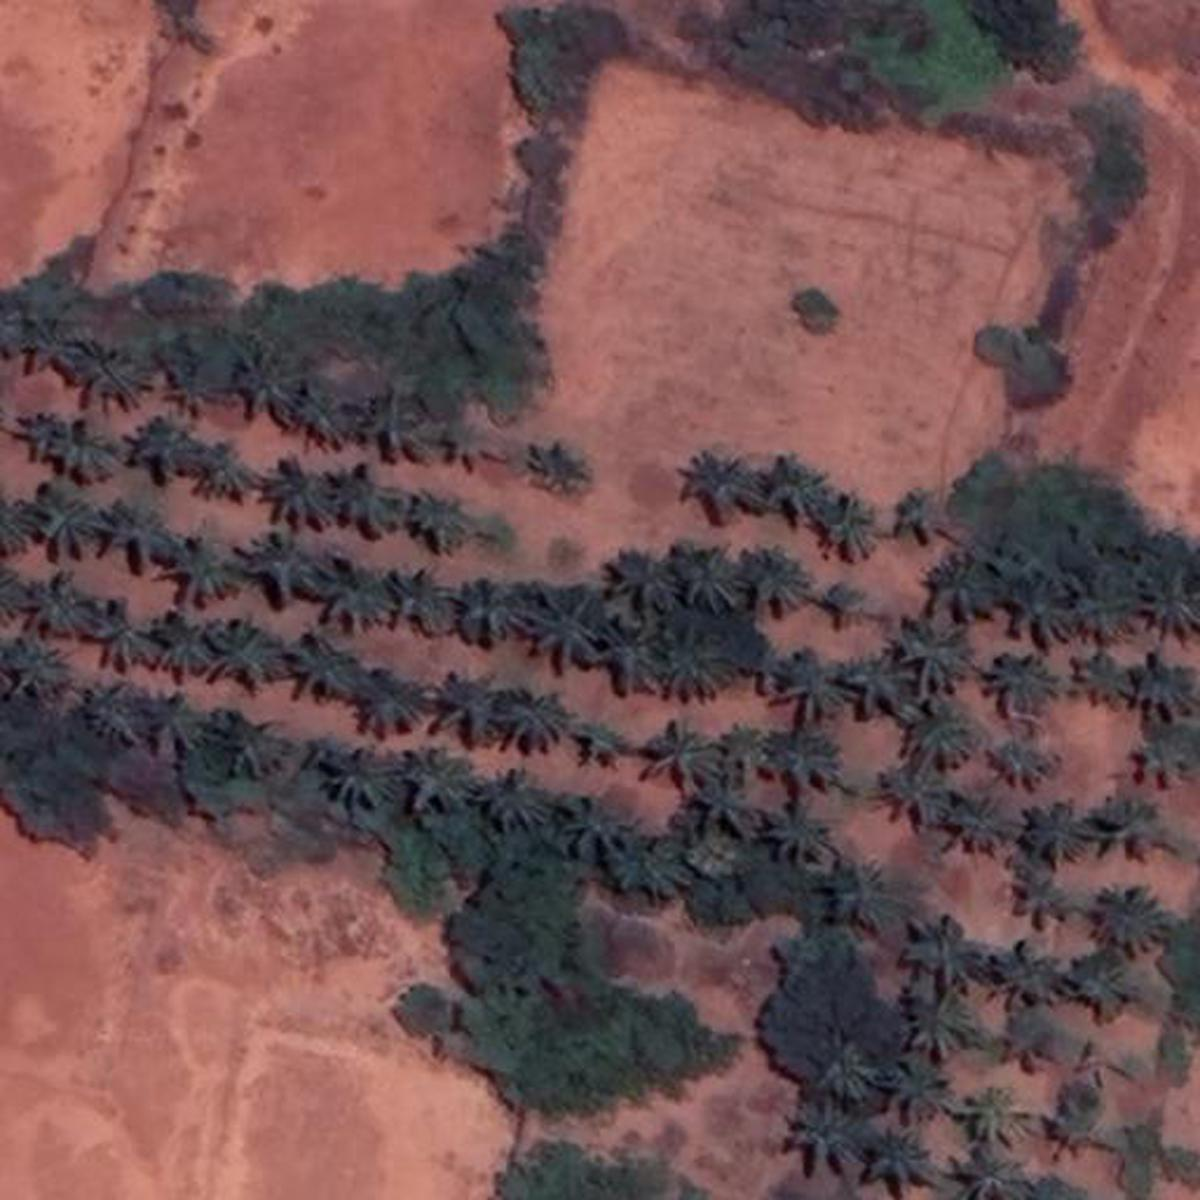coconut: (881, 614, 979, 705), (316, 735, 412, 822), (892, 984, 986, 1071), (205, 703, 304, 785), (386, 495, 499, 564), (451, 578, 549, 656), (768, 642, 867, 719), (311, 546, 391, 637), (787, 1096, 864, 1184), (496, 679, 571, 768), (1080, 876, 1164, 956), (982, 653, 1068, 731), (16, 416, 116, 482), (255, 447, 335, 529), (478, 764, 564, 838), (675, 447, 759, 522), (396, 747, 487, 816), (757, 808, 841, 881), (738, 538, 815, 618), (949, 778, 1031, 853), (592, 541, 675, 614), (675, 536, 752, 614), (897, 914, 977, 989), (351, 665, 431, 740), (1068, 557, 1149, 630), (325, 473, 414, 538), (1040, 1078, 1108, 1164), (829, 862, 914, 930), (210, 609, 288, 684), (564, 795, 638, 871), (23, 489, 103, 560), (1064, 953, 1143, 1024), (1016, 799, 1096, 869), (991, 937, 1073, 1005), (9, 304, 79, 382), (611, 841, 691, 909), (851, 1134, 937, 1197), (773, 727, 846, 801), (1127, 714, 1200, 789), (73, 346, 157, 410), (754, 457, 836, 522), (229, 349, 321, 407), (25, 569, 93, 646), (403, 549, 459, 642), (876, 749, 944, 825), (285, 627, 353, 703), (904, 703, 973, 778), (162, 604, 225, 684), (525, 584, 595, 656), (638, 726, 714, 792), (595, 637, 677, 698), (656, 630, 726, 700), (105, 508, 175, 578), (126, 410, 195, 480), (989, 1005, 1062, 1071), (808, 1026, 884, 1089), (956, 1092, 1031, 1155), (724, 726, 787, 801), (925, 557, 996, 623), (351, 393, 421, 459), (255, 520, 311, 602), (82, 602, 149, 670), (438, 677, 505, 745), (885, 1062, 956, 1125), (162, 353, 241, 410), (1014, 860, 1082, 925), (295, 384, 360, 447), (1116, 801, 1176, 871), (175, 532, 234, 602), (1143, 571, 1200, 644), (73, 689, 142, 747), (848, 656, 918, 714), (527, 440, 600, 495), (1010, 578, 1071, 642), (0, 646, 65, 707), (196, 447, 260, 508), (946, 1153, 1040, 1195), (440, 419, 503, 478), (810, 495, 878, 549), (574, 716, 638, 771), (892, 492, 958, 546), (1134, 656, 1192, 712), (993, 726, 1054, 780), (1073, 653, 1129, 705)
